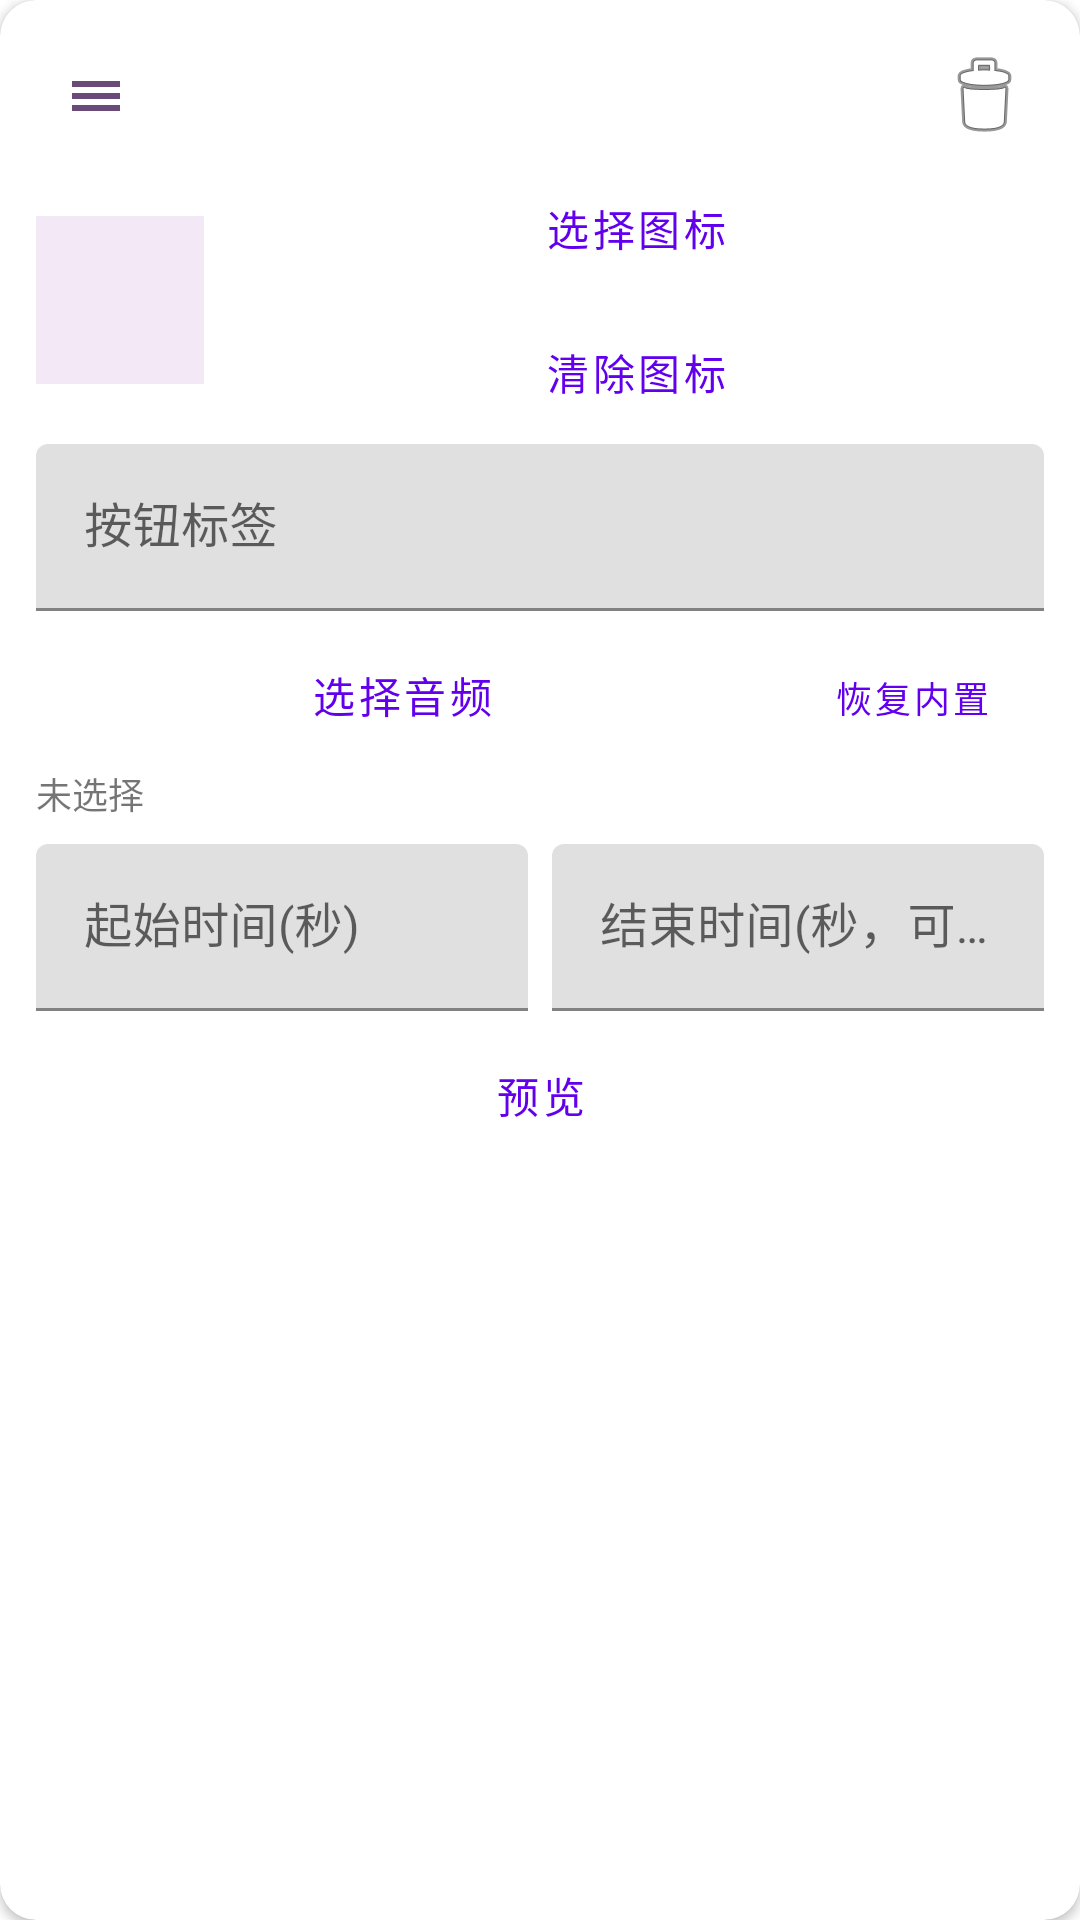

Icon bounding boxes for this 1080px x 1920px phone screenshot, format (x1, y1, x2, y2):
删除: (957, 57, 1012, 132)
拖动排序: (72, 81, 120, 111)
